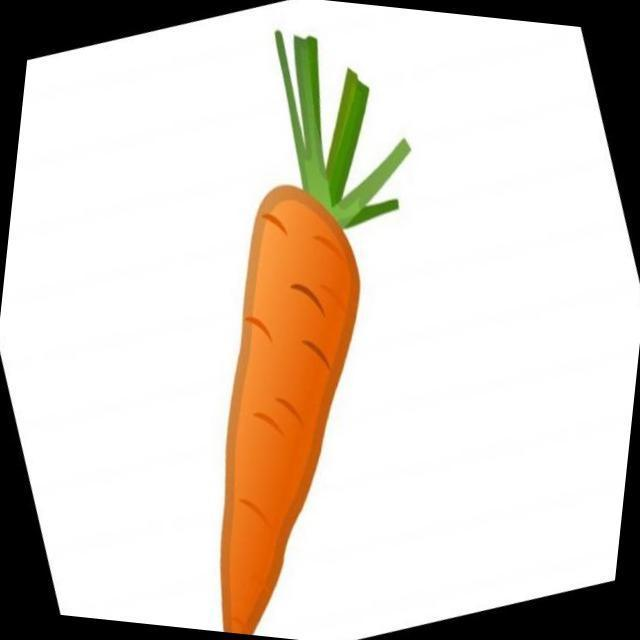Carrot: (221, 31, 410, 632)
